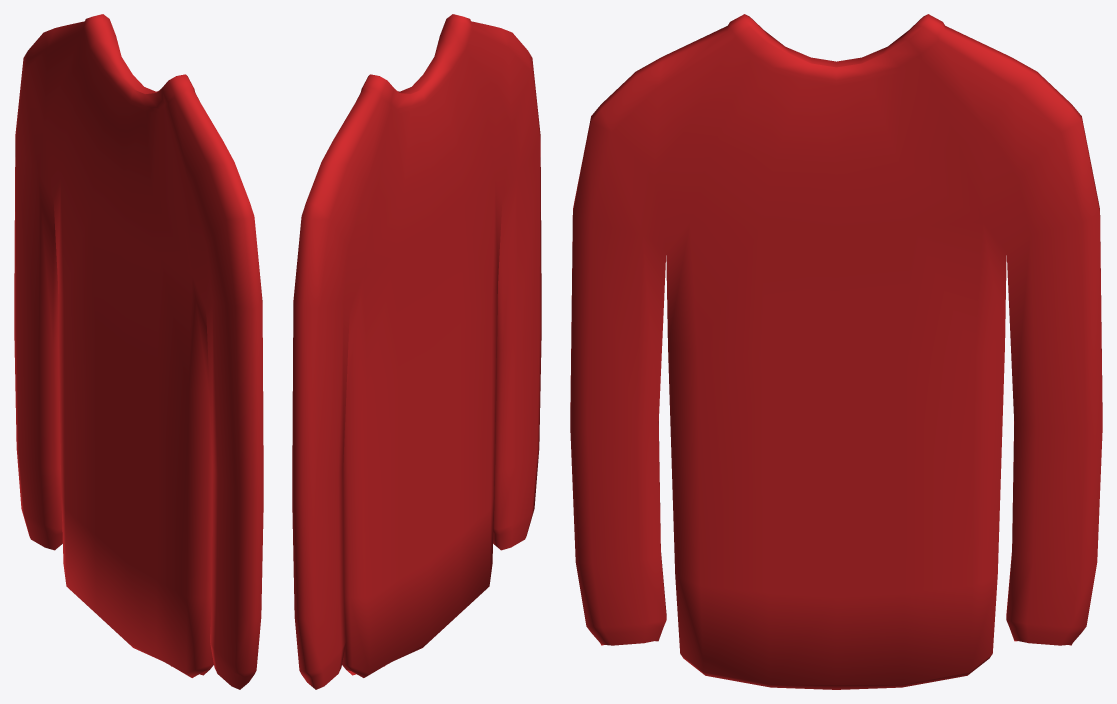
The model's file is MOD_PRO_Shirt_01.fbx.
3 views of the same model, side by side, from view 1: azimuth 30°, elevation 25°; view 2: azimuth 150°, elevation 25°; view 3: azimuth 270°, elevation 25° (orthographic). The views are drawn at different scales.
Visible parts, largest first — view 1: MOD_PRO_Shirt_01; view 2: MOD_PRO_Shirt_01; view 3: MOD_PRO_Shirt_01.
Boxes of the visible parts, x1,y1,x2,y2 form: MOD_PRO_Shirt_01: [14, 14, 263, 689]; MOD_PRO_Shirt_01: [292, 14, 541, 689]; MOD_PRO_Shirt_01: [570, 14, 1102, 689].
Bounding box in the file's own units: 0.0422 × 0.8036 × 0.5788.
